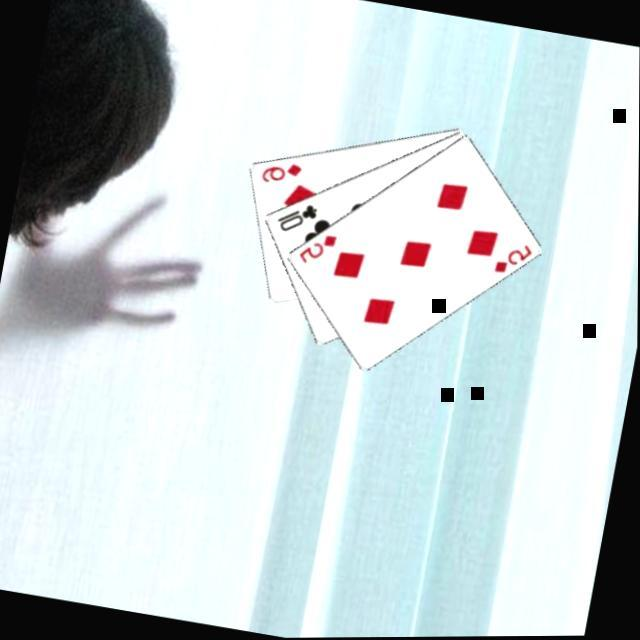10C: (273, 196, 324, 238)
5D: (295, 226, 341, 270), (492, 237, 538, 281)
6D: (259, 155, 307, 190)
